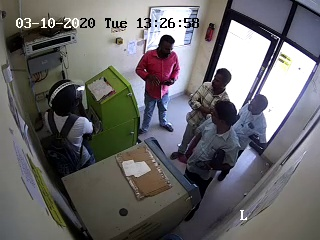helmet: (46, 78, 90, 115)
